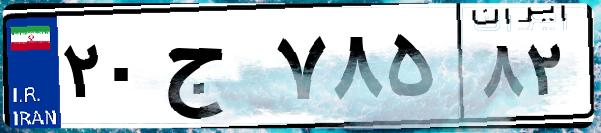0: (110, 28, 158, 98)
2: (57, 26, 110, 100), (525, 38, 570, 115)
5: (385, 28, 445, 110)
7: (270, 28, 330, 110)
8: (330, 28, 385, 110), (475, 38, 525, 113)
ج: (158, 20, 270, 120)
